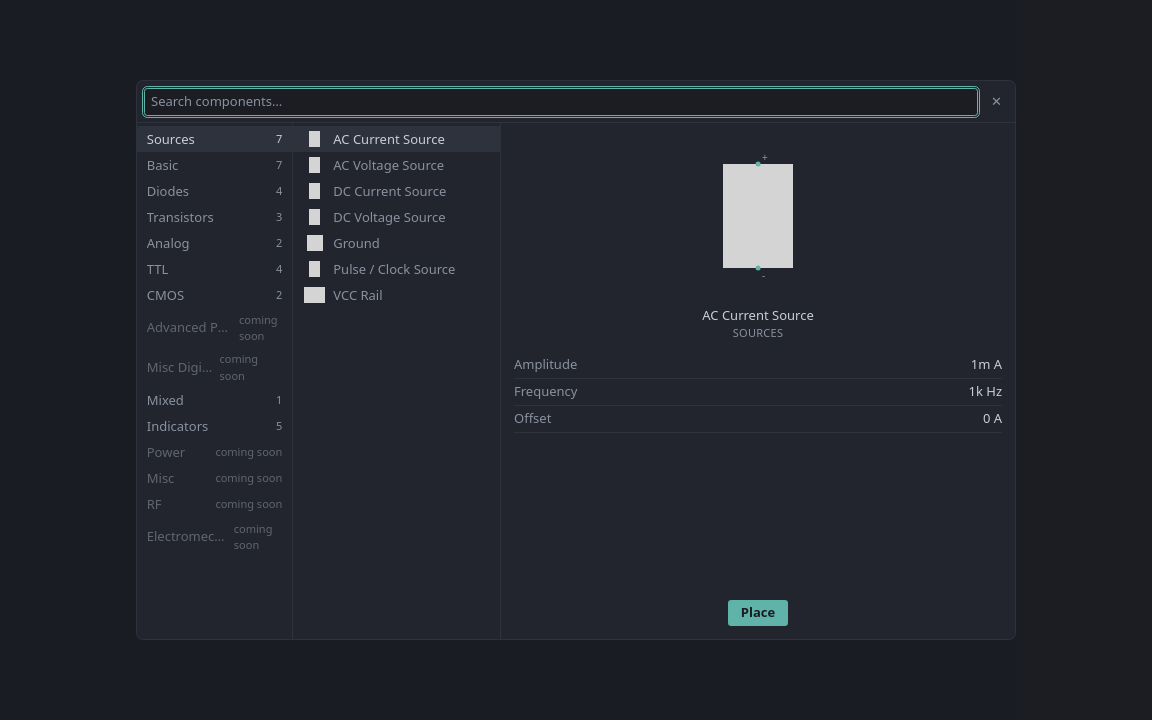
Test: ComponentBrowser › lists a group's parts by name and shows the highlighted part's details
What coordinates should you click on to do the following:
click the button with aria-label "group Basic"
I would click on:
 (214, 165)
Its box is [137, 152, 292, 178].
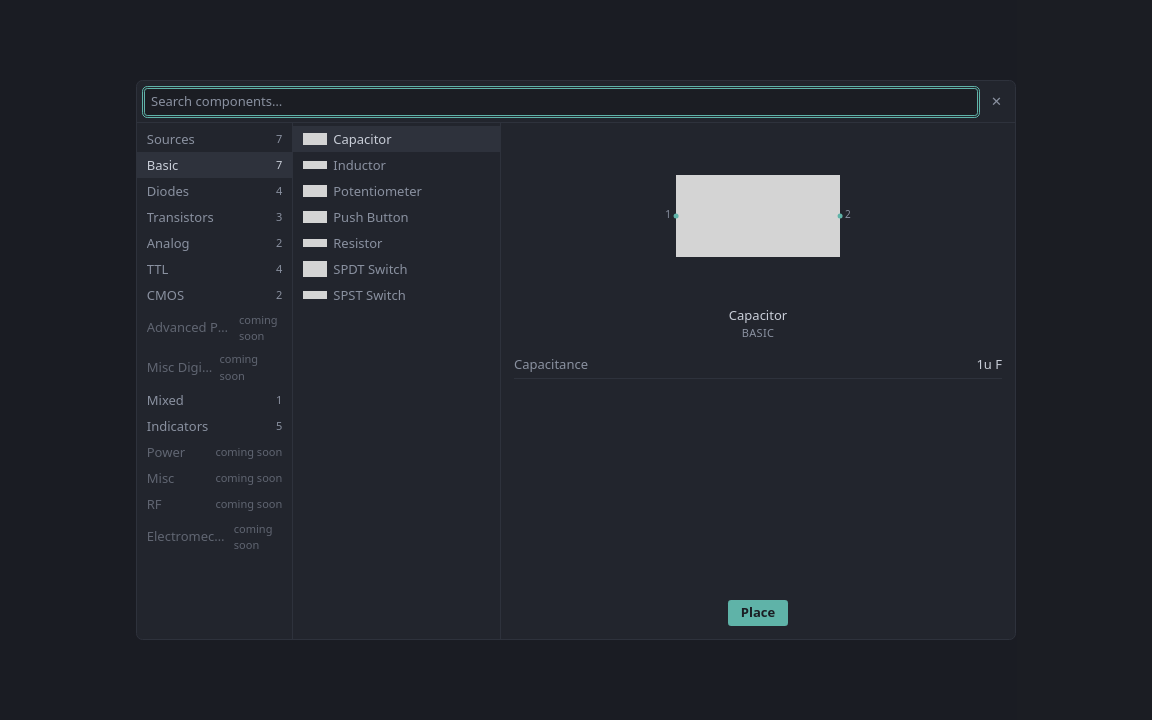
What coordinates should you click on to do the following:
click the option "Resistor"
I would click on:
 (343, 242)
Its box is [303, 234, 382, 252].
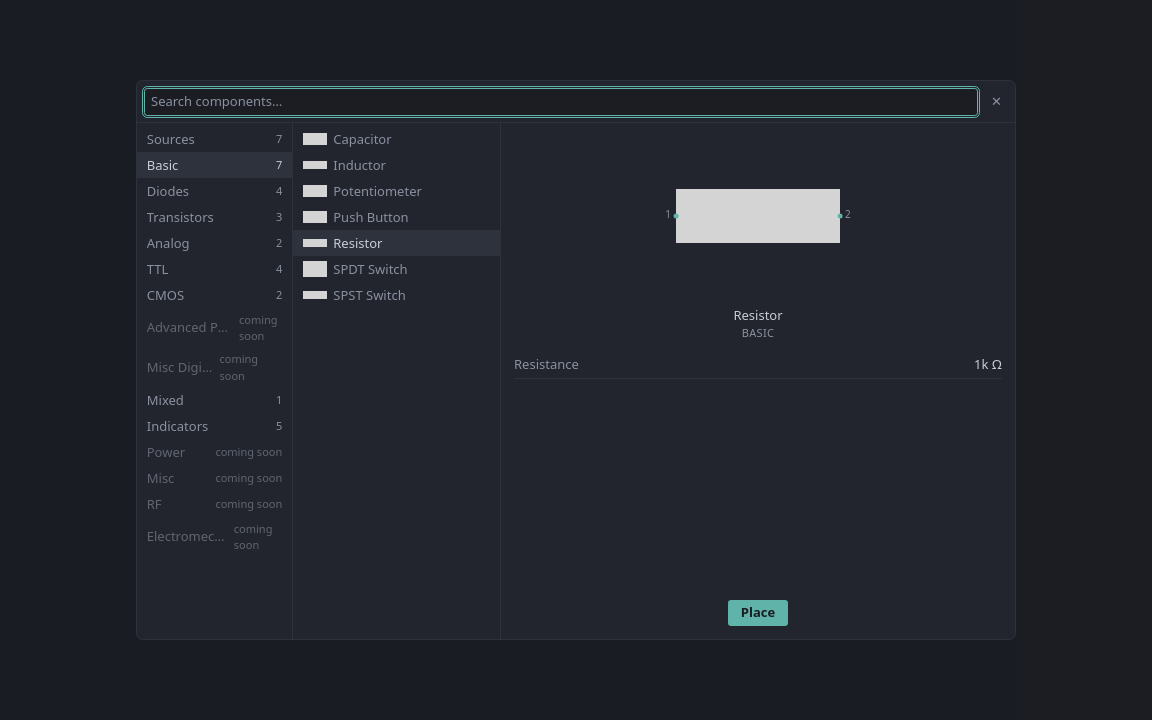
Now the text "Resistance" is shown, box [514, 355, 579, 374]
Now the text "1k Ω" is shown, box [974, 355, 1002, 374]
